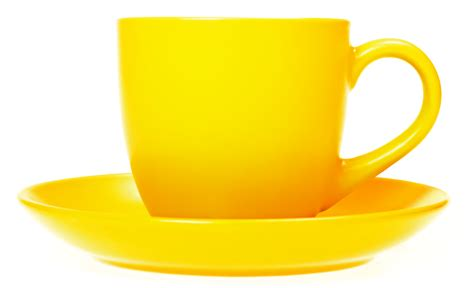???: (15, 17, 449, 277)
